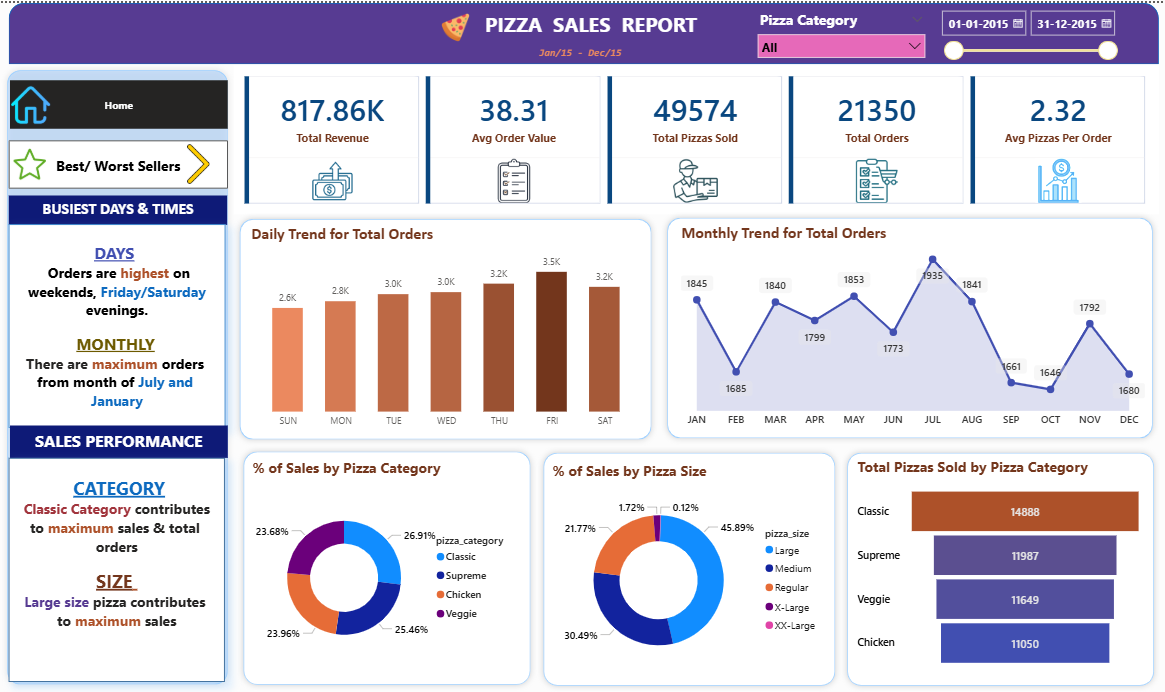

The dashboard page shown, as its layout file describes it:
{"tool":"powerbi","page":{"name":"Home ","canvas":[1600,930],"ordinal":0},"visuals":[{"type":"cardVisual","fields":{"Data":["pizza_sales.Total Revenue","pizza_sales.Avg Order Value","pizza_sales.Total Pizzas Sold","pizza_sales.Total Orders","pizza_sales.Avg Pizzas Per Order"]},"box":[338.3,83.3,1233.3,198.3],"z":0},{"type":"shape","box":[28.3,81.7,310,835],"z":1000},{"type":"shape","box":[38.3,0,1533.3,81.7],"z":2000},{"type":"textbox","box":[658.6,4.3,312.9,47.1],"z":3000},{"type":"textbox","box":[726.2,51.2,147.5,30],"z":4000},{"type":"image","box":[610,12.9,48.6,38.6],"z":5000},{"type":"shape","box":[338.3,280,565,310],"z":6000},{"type":"columnChart","title":"Daily Trend for Total Orders","fields":{"Category":["pizza_sales.Order Day"],"Y":["pizza_sales.Total Orders"]},"box":[356.7,295,531.7,280],"z":7000},{"type":"shape","box":[908.3,278.3,663.3,310],"z":8000},{"type":"areaChart","title":"Monthly Trend for Total Orders","fields":{"Y":["pizza_sales.Total Orders"],"Category":["pizza_sales.Order Month"]},"box":[930,293.3,628.3,281.7],"z":9000},{"type":"shape","box":[342.9,590,398.6,327.1],"z":10000},{"type":"shape","box":[743.3,591.7,405,326.7],"z":11000},{"type":"shape","box":[1148.3,591.7,425,326.7],"z":12000},{"type":"donutChart","title":"% of Sales by Pizza Category","fields":{"Category":["pizza_sales.pizza_category"],"Y":["pizza_sales.Total Revenue"]},"box":[358.3,606.7,366.7,295],"z":13000},{"type":"donutChart","title":"% of Sales by Pizza Size","fields":{"Y":["pizza_sales.Total Revenue"],"Category":["pizza_sales.pizza_size"]},"box":[758.3,610,373.3,295],"z":14000},{"type":"funnel","title":"Total Pizzas Sold by Pizza Category","fields":{"Category":["pizza_sales.pizza_category"],"Y":["pizza_sales.Total Pizzas Sold"]},"box":[1165,605,390,295],"z":15000},{"type":"textbox","box":[37.8,256.7,291.1,38.9],"z":16000},{"type":"textbox","box":[38.9,295.6,288.9,271.1],"z":17000},{"type":"textbox","box":[40,563.3,290,43.3],"z":18000},{"type":"textbox","box":[38.3,606.7,288.3,298.3],"z":19000},{"type":"slicer","fields":{"Values":["pizza_sales.pizza_category"]},"box":[1026.7,5,243.3,76.7],"z":20000},{"type":"slicer","fields":{"Values":["pizza_sales.order_date"]},"box":[1270,0,255,81.7],"z":21000},{"type":"pageNavigator","box":[38,183,292,64],"z":22000},{"type":"pageNavigator","box":[40,104,290,64],"z":23000},{"type":"image","box":[38,110,58,52],"z":24000},{"type":"image","box":[257,188,69,53],"z":25000},{"type":"image","box":[38.3,193.3,56.7,43.3],"z":26000}]}

Visuals, with their boxes in screenshot pixels (x1, y1, x2, y2), scaled from the page's 1600x930 canvas onto the 1165x692 screenshot:
cardVisual - pizza_sales.Total Revenue x pizza_sales.Avg Order Value: pyautogui.locateOnScreen(246, 62, 1144, 210)
shape: pyautogui.locateOnScreen(21, 61, 246, 682)
shape: pyautogui.locateOnScreen(28, 0, 1144, 61)
textbox: pyautogui.locateOnScreen(480, 3, 707, 38)
textbox: pyautogui.locateOnScreen(529, 38, 636, 60)
image: pyautogui.locateOnScreen(444, 10, 480, 38)
shape: pyautogui.locateOnScreen(246, 208, 658, 439)
"Daily Trend for Total Orders" columnChart: pyautogui.locateOnScreen(260, 220, 647, 428)
shape: pyautogui.locateOnScreen(661, 207, 1144, 438)
"Monthly Trend for Total Orders" areaChart: pyautogui.locateOnScreen(677, 218, 1135, 428)
shape: pyautogui.locateOnScreen(250, 439, 540, 682)
shape: pyautogui.locateOnScreen(541, 440, 836, 683)
shape: pyautogui.locateOnScreen(836, 440, 1146, 683)
"% of Sales by Pizza Category" donutChart: pyautogui.locateOnScreen(261, 451, 528, 671)
"% of Sales by Pizza Size" donutChart: pyautogui.locateOnScreen(552, 454, 824, 673)
"Total Pizzas Sold by Pizza Category" funnel: pyautogui.locateOnScreen(848, 450, 1132, 670)
textbox: pyautogui.locateOnScreen(28, 191, 239, 220)
textbox: pyautogui.locateOnScreen(28, 220, 239, 422)
textbox: pyautogui.locateOnScreen(29, 419, 240, 451)
textbox: pyautogui.locateOnScreen(28, 451, 238, 673)
slicer - pizza_sales.pizza_category: pyautogui.locateOnScreen(748, 4, 925, 61)
slicer - pizza_sales.order_date: pyautogui.locateOnScreen(925, 0, 1110, 61)
pageNavigator: pyautogui.locateOnScreen(28, 136, 240, 184)
pageNavigator: pyautogui.locateOnScreen(29, 77, 240, 125)
image: pyautogui.locateOnScreen(28, 82, 70, 121)
image: pyautogui.locateOnScreen(187, 140, 237, 179)
image: pyautogui.locateOnScreen(28, 144, 69, 176)
